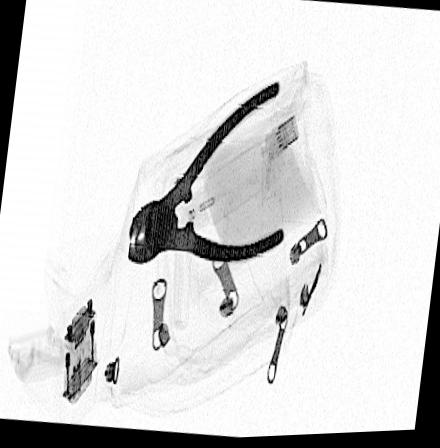Pliers: (126, 81, 285, 267)
